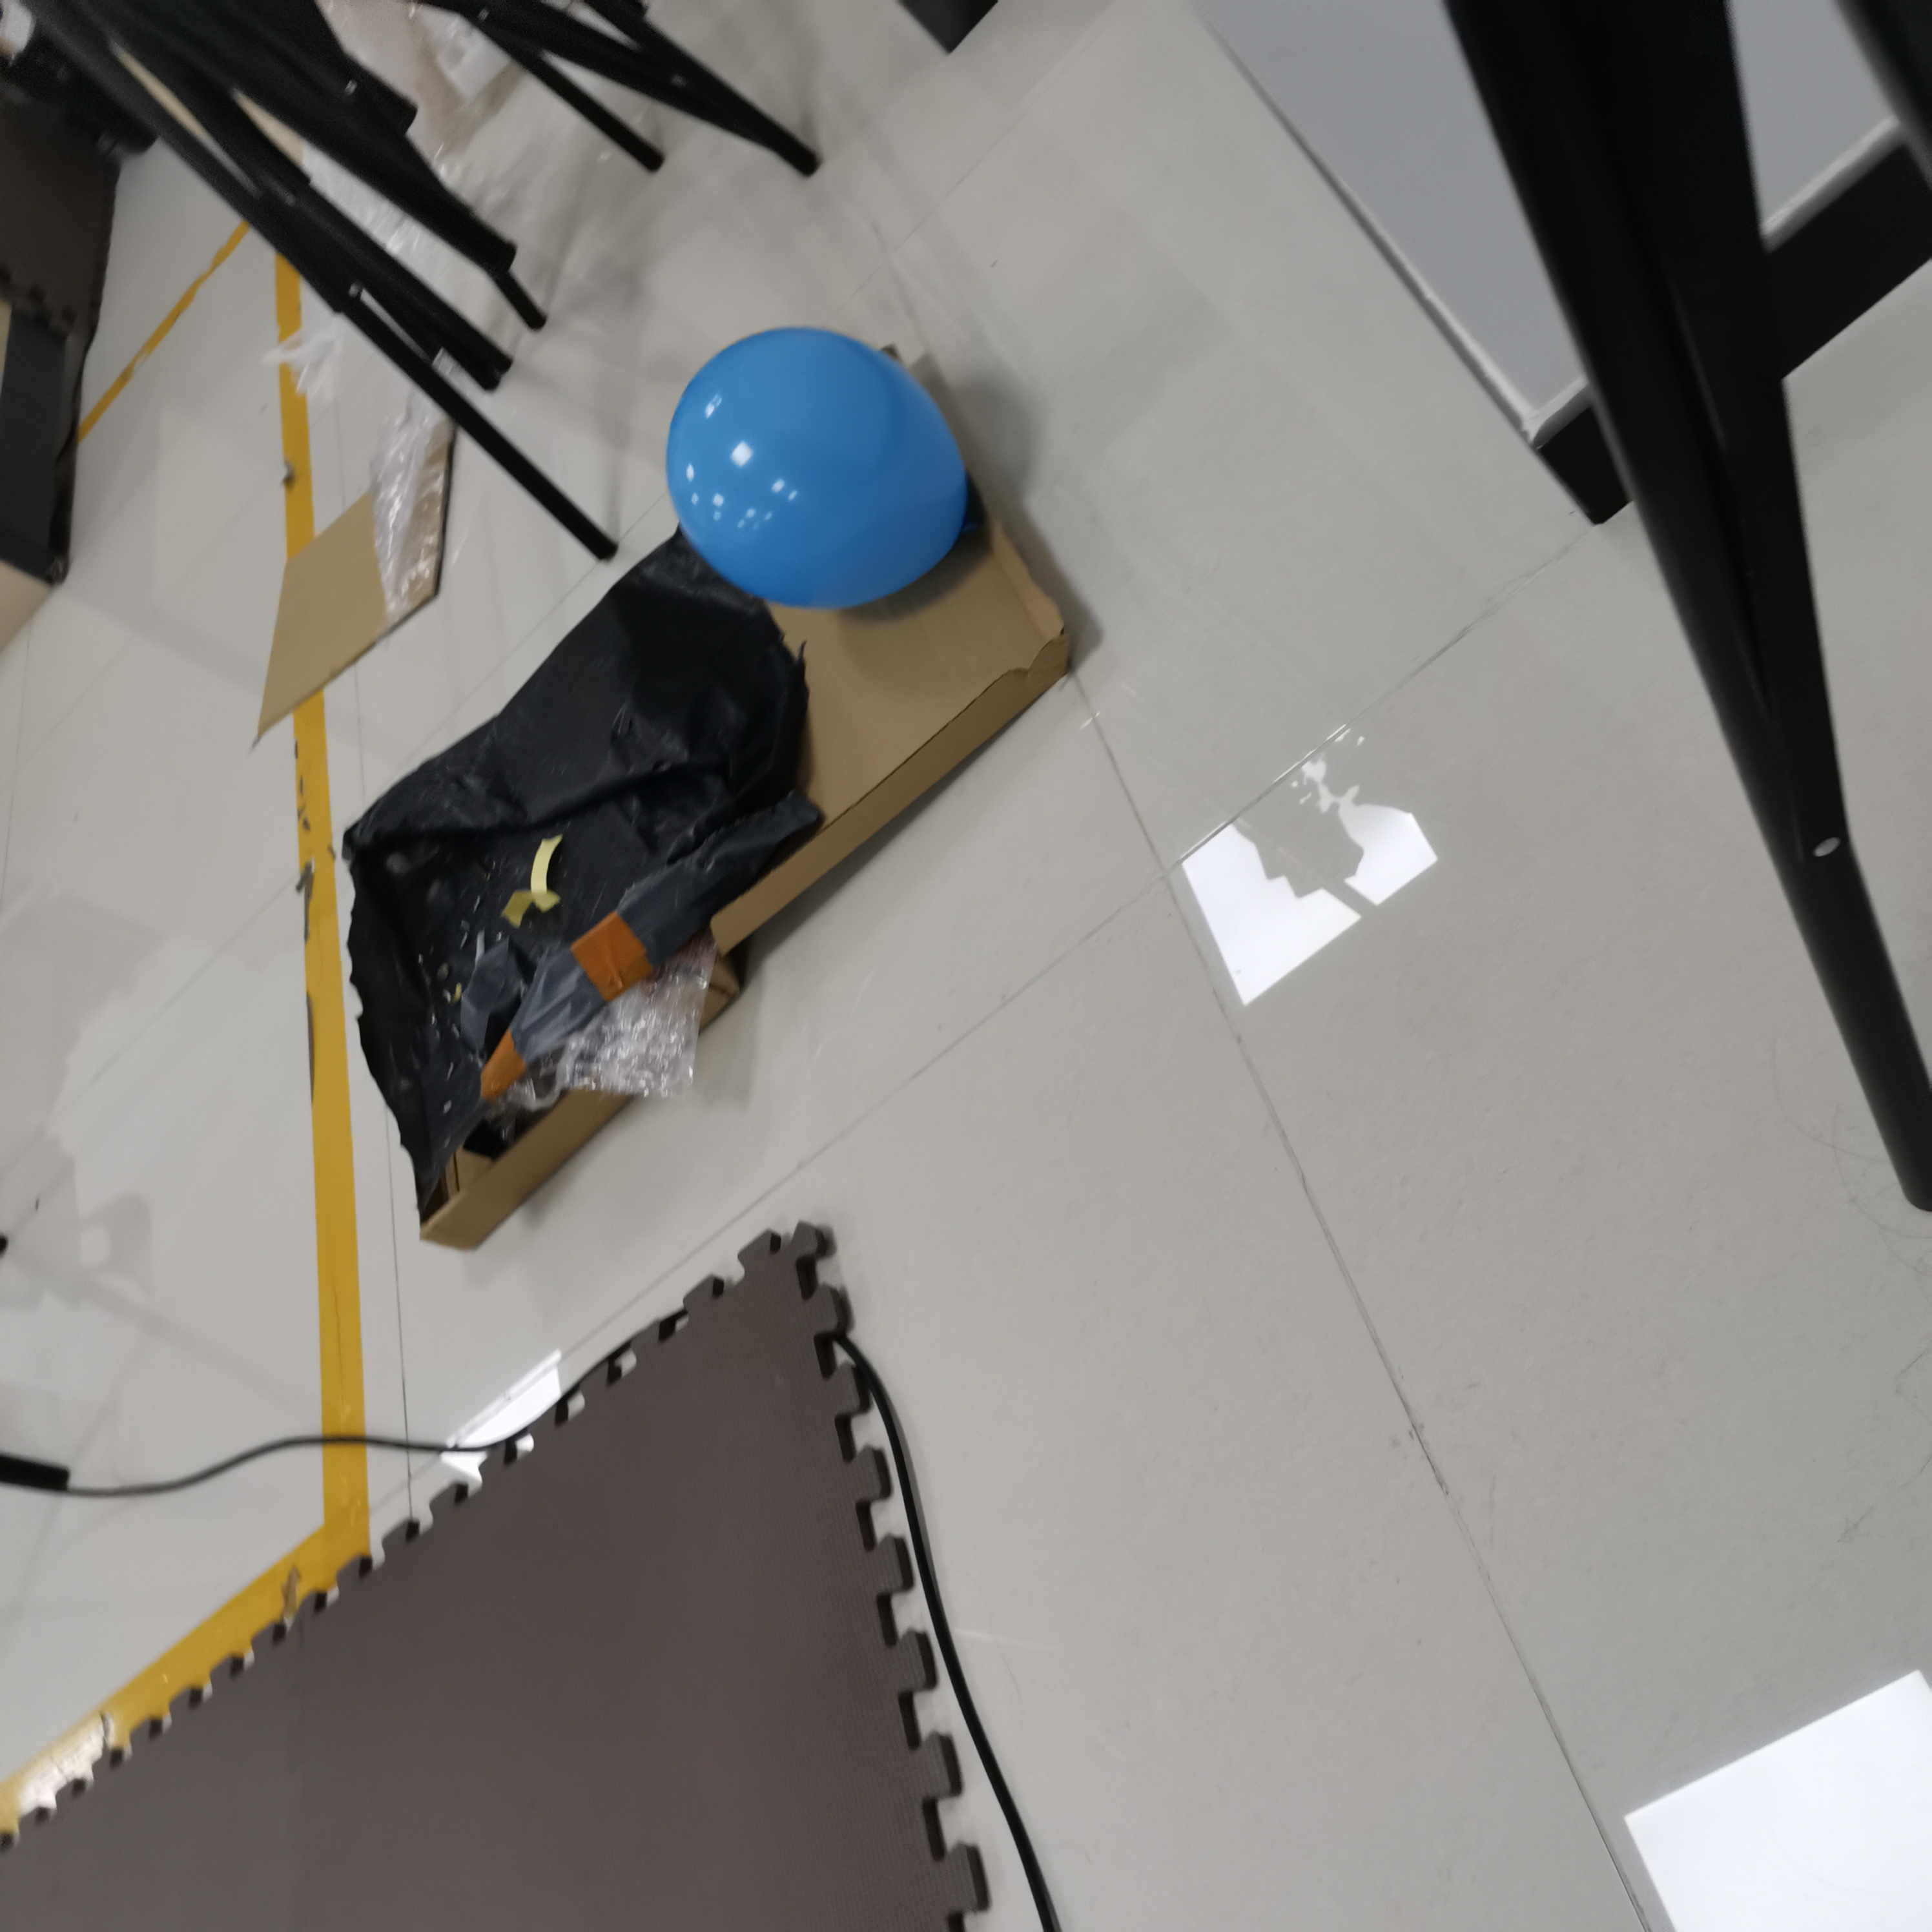balloon: (667, 326, 970, 610)
